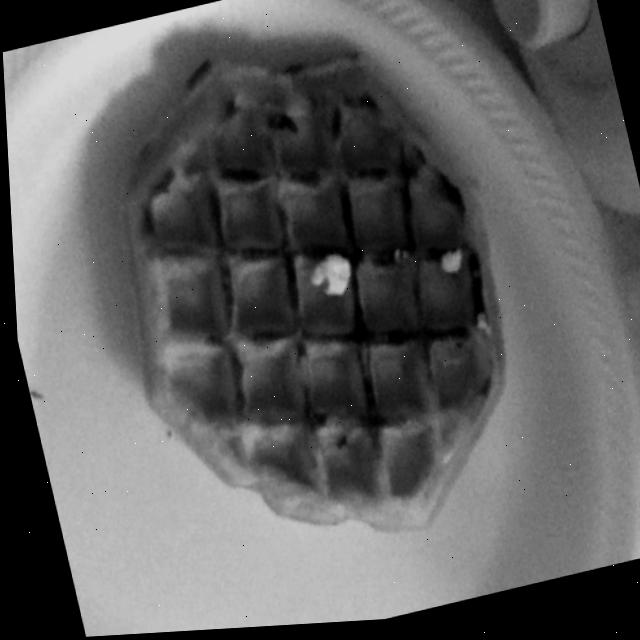炸货点心: (52, 0, 583, 604)
蛋糕甜品: (52, 0, 583, 604)
